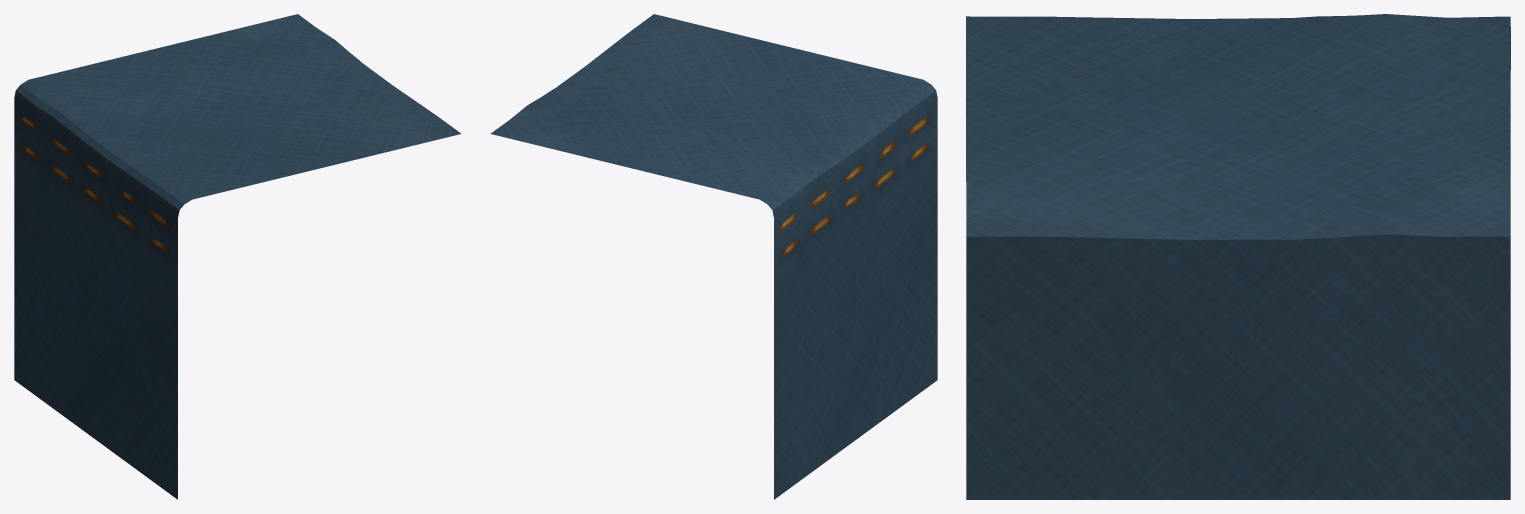
Rendered from tl_mid0.FBX.
3 views of the same model, side by side, from view 1: azimuth 30°, elevation 25°; view 2: azimuth 150°, elevation 25°; view 3: azimuth 270°, elevation 25° (orthographic). The views are drawn at different scales.
Parts seen in each view (by area): view 1: tl_mid0_MESH; view 2: tl_mid0_MESH; view 3: tl_mid0_MESH.
Boxes of the visible parts, x1,y1,x2,y2 form: tl_mid0_MESH: (14,14,461,499); tl_mid0_MESH: (490,14,937,499); tl_mid0_MESH: (966,14,1510,499).
Bounding box in the file's own units: 100 × 100 × 100.
